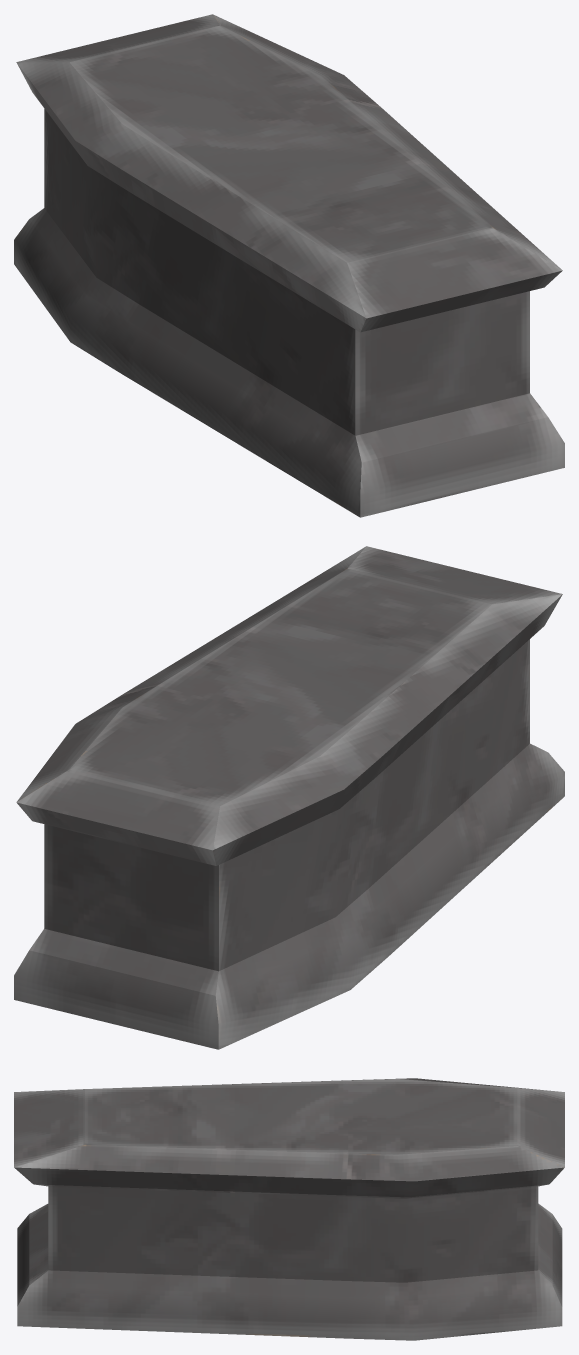
The model's file is Stone Tomb.fbx.
3 renders of one model, top to bottom at view 1: azimuth 30°, elevation 25°; view 2: azimuth 150°, elevation 25°; view 3: azimuth 270°, elevation 25°, orthographic. The views are drawn at different scales.
Parts seen in each view (by area): view 1: Coffin.004; view 2: Coffin.004; view 3: Coffin.004.
Part boxes in pixels (<box>): Coffin.004: <box>14,14,564,517</box>; Coffin.004: <box>14,546,564,1049</box>; Coffin.004: <box>14,1078,564,1340</box>.
Size of the model in its own units: 543 by 400 by 1175.
